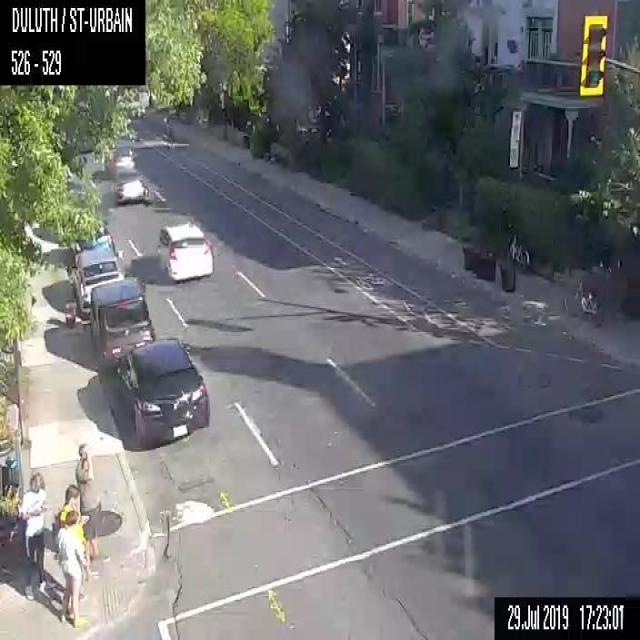pedestrian: (18, 471, 46, 598), (54, 513, 82, 624), (58, 483, 90, 577), (75, 440, 96, 550)
vehicle: (115, 338, 210, 448), (89, 276, 153, 369), (157, 220, 213, 283), (75, 248, 122, 317), (67, 216, 114, 259), (116, 176, 146, 205), (112, 151, 134, 173)
